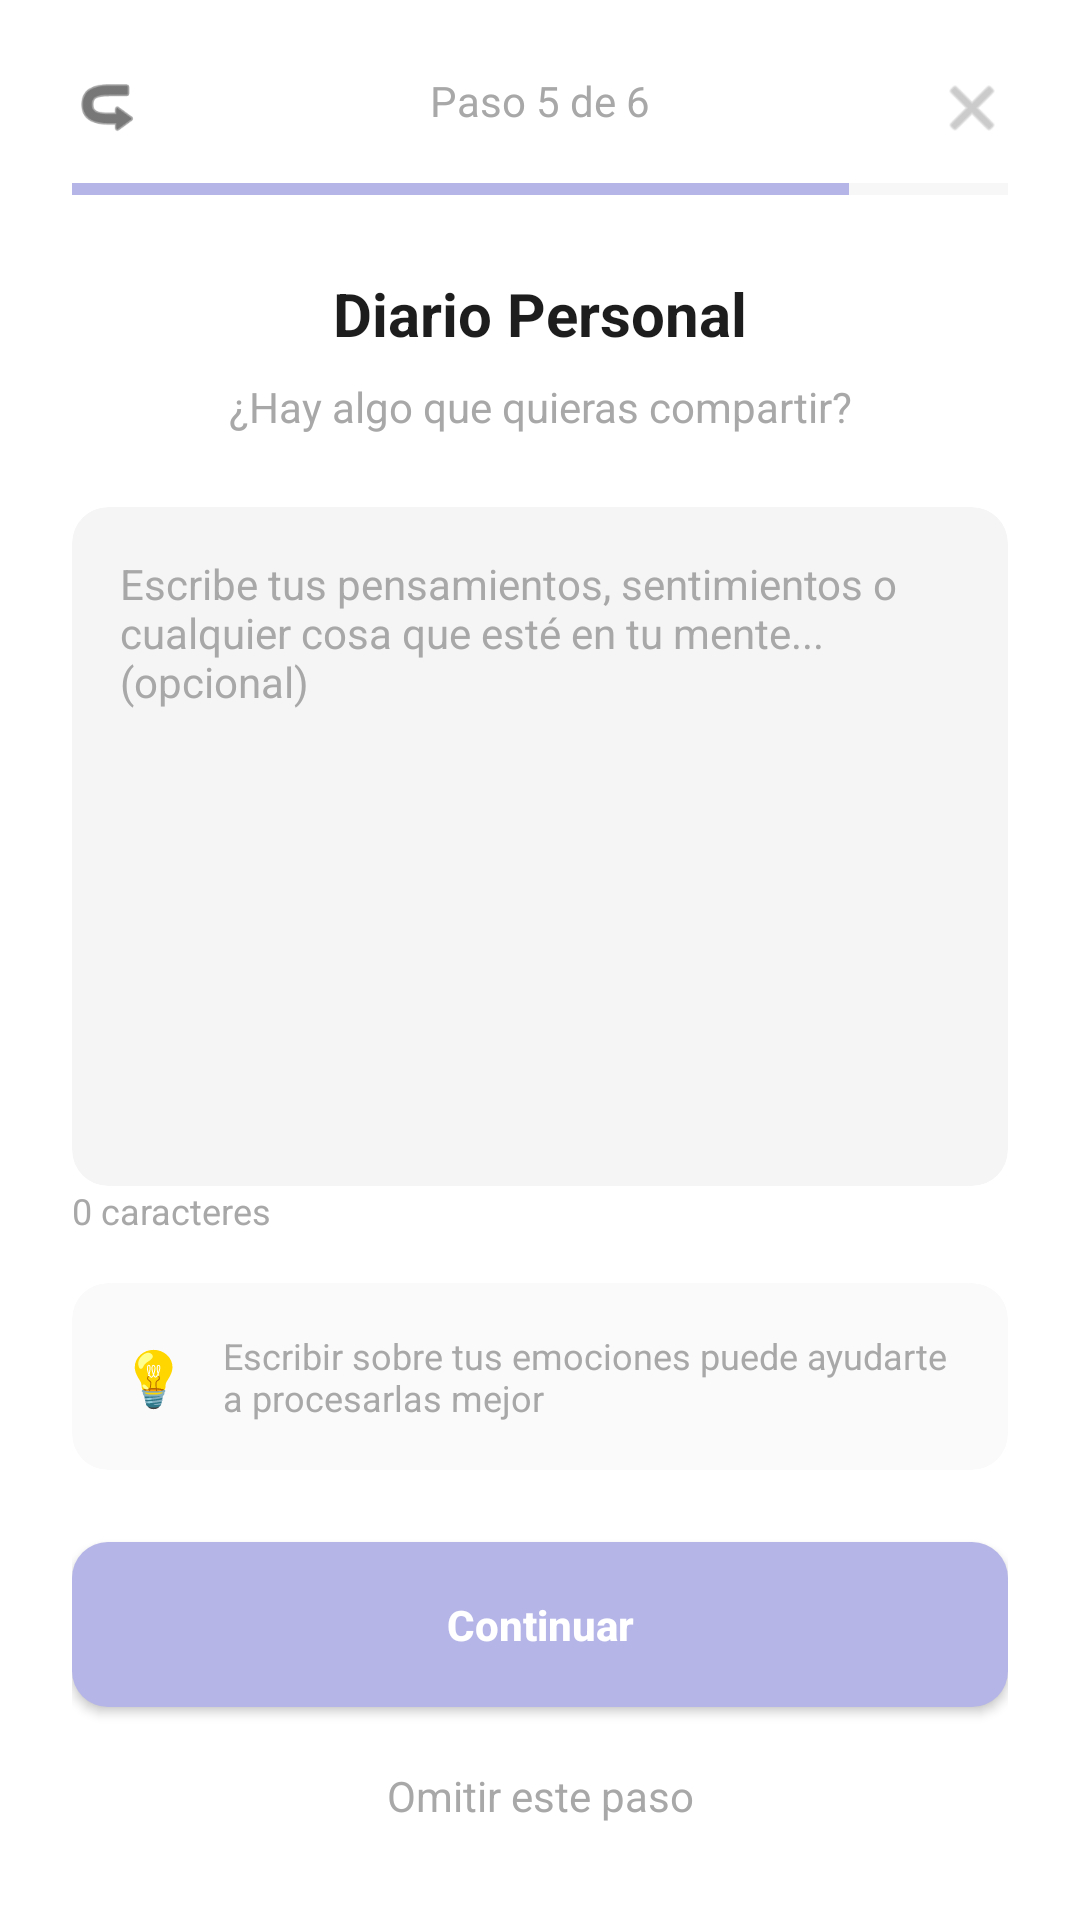

Icons on this 1080 × 1920 Android screen, each with its box as (x1, y1, x2, y2):
close clear cancel: (950, 86, 994, 130)
